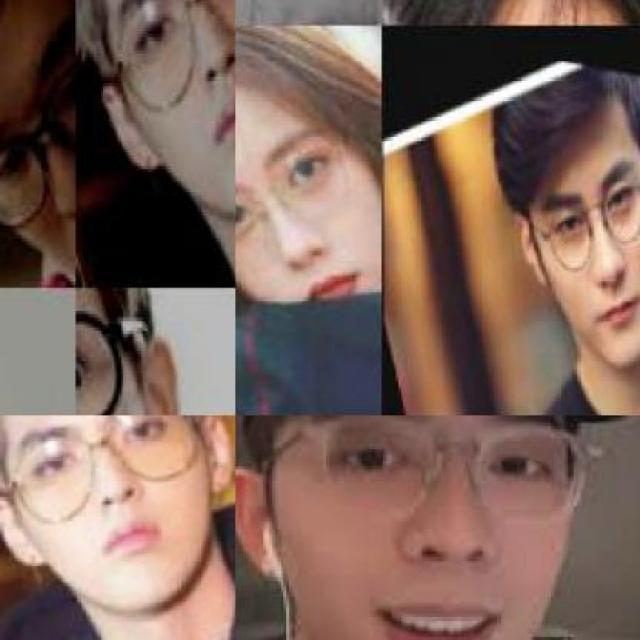glasses: (303, 416, 596, 516), (0, 415, 222, 537), (0, 0, 74, 260), (80, 0, 234, 116), (75, 288, 178, 414), (521, 168, 639, 274), (235, 136, 360, 236)
